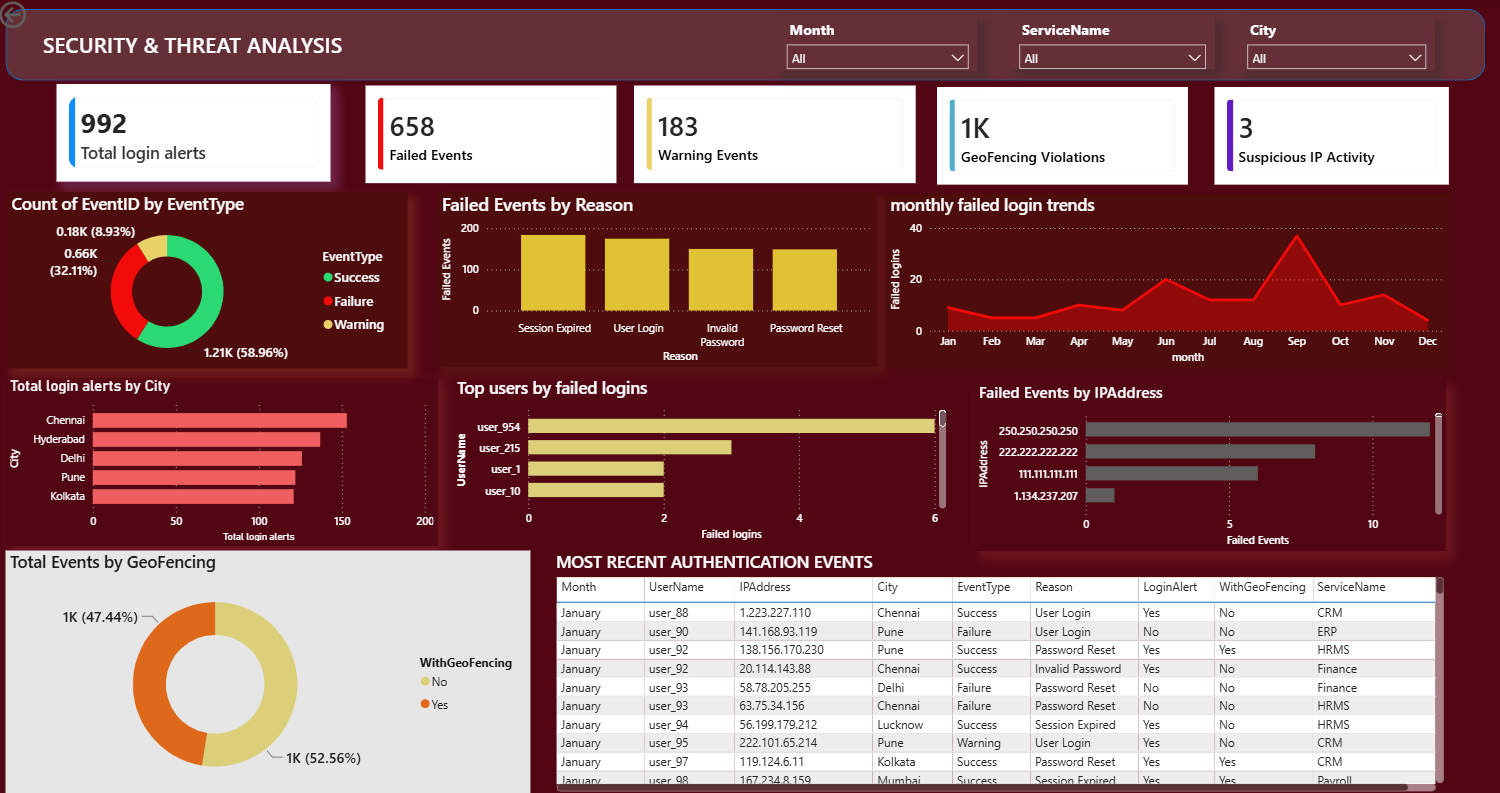

This screenshot's page, from the dashboard's own definition file:
{"tool":"powerbi","page":{"name":"security & threat analysis","canvas":[1700,900],"ordinal":1},"visuals":[{"type":"shape","box":[12,13.7,1666.9,80.6],"z":0},{"type":"cardVisual","fields":{"Data":["AuthLogs_Final.Failed Events"]},"box":[416.7,99.5,283,109.8],"z":1000},{"type":"cardVisual","fields":{"Data":["AuthLogs_Final.Total login alerts"]},"box":[68.6,97.7,308.7,109.8],"z":2000},{"type":"cardVisual","fields":{"Data":["AuthLogs_Final.GeoFencing Violations"]},"box":[1061.5,101.2,283,109.8],"z":3000},{"type":"cardVisual","fields":{"Data":["AuthLogs_Final.Warning Events"]},"box":[720.2,99.5,317.3,109.8],"z":4000},{"type":"columnChart","fields":{"Category":["AuthLogs_Final.Reason"],"Y":["AuthLogs_Final.Failed Events"]},"box":[499,219.5,495.6,197.2],"z":5000},{"type":"clusteredBarChart","fields":{"Category":["AuthLogs_Final.IPAddress"],"Y":["AuthLogs_Final.Failed Events"]},"box":[1104,432,531.6,192.1],"z":6000},{"type":"barChart","fields":{"Category":["AuthLogs_Final.City"],"Y":["AuthLogs_Final.Total login alerts"]},"box":[12,427,487,190.4],"z":7000},{"type":"donutChart","title":"Total Events by GeoFencing","fields":{"Category":["AuthLogs_Final.WithGeoFencing"],"Y":["AuthLogs_Final.Total Events"]},"box":[12,624.2,591.6,276.1],"z":8000},{"type":"lineChart","title":"monthly failed login trends","fields":{"Category":["AuthLogs_Final.month"],"Y":["AuthLogs_Final.Failed logins"]},"box":[1003.2,221.2,634.5,197.2],"z":9000},{"type":"clusteredBarChart","title":"Top users by failed logins","fields":{"Category":["AuthLogs_Final.UserName"],"Y":["AuthLogs_Final.Failed logins"]},"box":[516.2,427,560.8,190.4],"z":10000},{"type":"actionButton","box":[0,0,100,40],"z":11000},{"type":"textbox","box":[49.7,32.6,367.1,61.8],"z":12000},{"type":"slicer","fields":{"Values":["AuthLogs_Final.month"]},"box":[881.4,20.6,224.7,62.5],"z":13000},{"type":"slicer","fields":{"Values":["AuthLogs_Final.ServiceName"]},"box":[1143.8,20.6,229.8,60.8],"z":14000},{"type":"slicer","fields":{"Values":["AuthLogs_Final.City"]},"box":[1401,20.6,221.3,62.5],"z":15000},{"type":"donutChart","fields":{"Category":["AuthLogs_Final.EventType"],"Y":["CountNonNull(AuthLogs_Final.EventID)"]},"box":[13.7,219.5,451,198.9],"z":16000},{"type":"cardVisual","fields":{"Data":["AuthLogs_Final.Suspicious IP Activity"]},"box":[1373.6,101.2,264.1,109.8],"z":17000},{"type":"tableEx","title":"MOST RECENT AUTHENTICATION EVENTS","fields":{"Values":["AuthLogs_Final.TimeStamp.Variation.Date Hierarchy.Month","AuthLogs_Final.UserName","AuthLogs_Final.IPAddress","AuthLogs_Final.City","AuthLogs_Final.EventType","AuthLogs_Final.Reason","AuthLogs_Final.LoginAlert","AuthLogs_Final.WithGeoFencing","AuthLogs_Final.ServiceName"]},"box":[627.6,624.2,1010.1,276.1],"z":18000}]}

Visuals, with their boxes in screenshot pixels (x1, y1, x2, y2), scaled from the page's 1700x900 canvas onto the 1500x793 screenshot:
shape: 11/12/1481/83
cardVisual - AuthLogs_Final.Failed Events: 368/88/617/184
cardVisual - AuthLogs_Final.Total login alerts: 61/86/333/183
cardVisual - AuthLogs_Final.GeoFencing Violations: 937/89/1186/186
cardVisual - AuthLogs_Final.Warning Events: 635/88/915/184
columnChart - AuthLogs_Final.Reason x AuthLogs_Final.Failed Events: 440/193/878/367
clusteredBarChart - AuthLogs_Final.IPAddress x AuthLogs_Final.Failed Events: 974/381/1443/550
barChart - AuthLogs_Final.City x AuthLogs_Final.Total login alerts: 11/376/440/544
"Total Events by GeoFencing" donutChart: 11/550/533/792
"monthly failed login trends" lineChart: 885/195/1445/369
"Top users by failed logins" clusteredBarChart: 455/376/950/544
actionButton: 0/0/88/35
textbox: 44/29/368/83
slicer - AuthLogs_Final.month: 778/18/976/73
slicer - AuthLogs_Final.ServiceName: 1009/18/1212/72
slicer - AuthLogs_Final.City: 1236/18/1431/73
donutChart - AuthLogs_Final.EventType x CountNonNull(AuthLogs_Final.EventID): 12/193/410/369
cardVisual - AuthLogs_Final.Suspicious IP Activity: 1212/89/1445/186
"MOST RECENT AUTHENTICATION EVENTS" tableEx: 554/550/1445/792
